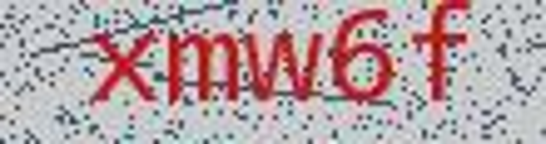6: (331, 3, 401, 109)
f: (407, 1, 481, 109)
m: (164, 25, 242, 119)
w: (242, 18, 325, 109)
x: (85, 19, 163, 116)
